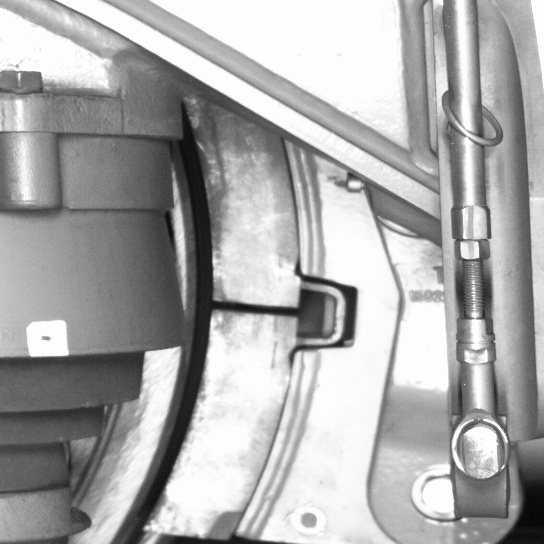KnifeSwitch: (107, 135, 297, 543)
